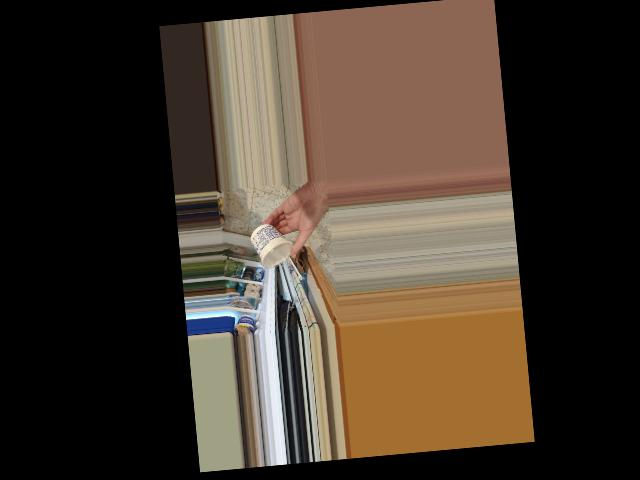cotage: (251, 225, 297, 269)
